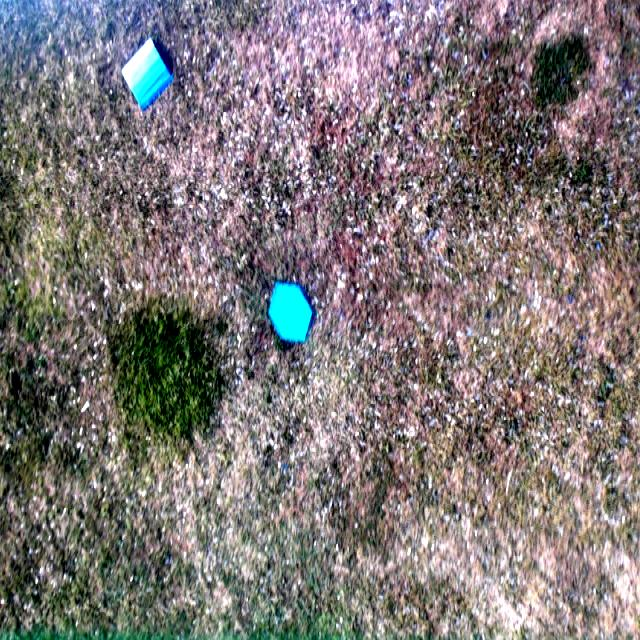blue_hexagon: (269, 284, 313, 344)
blue_square: (121, 38, 171, 110)
